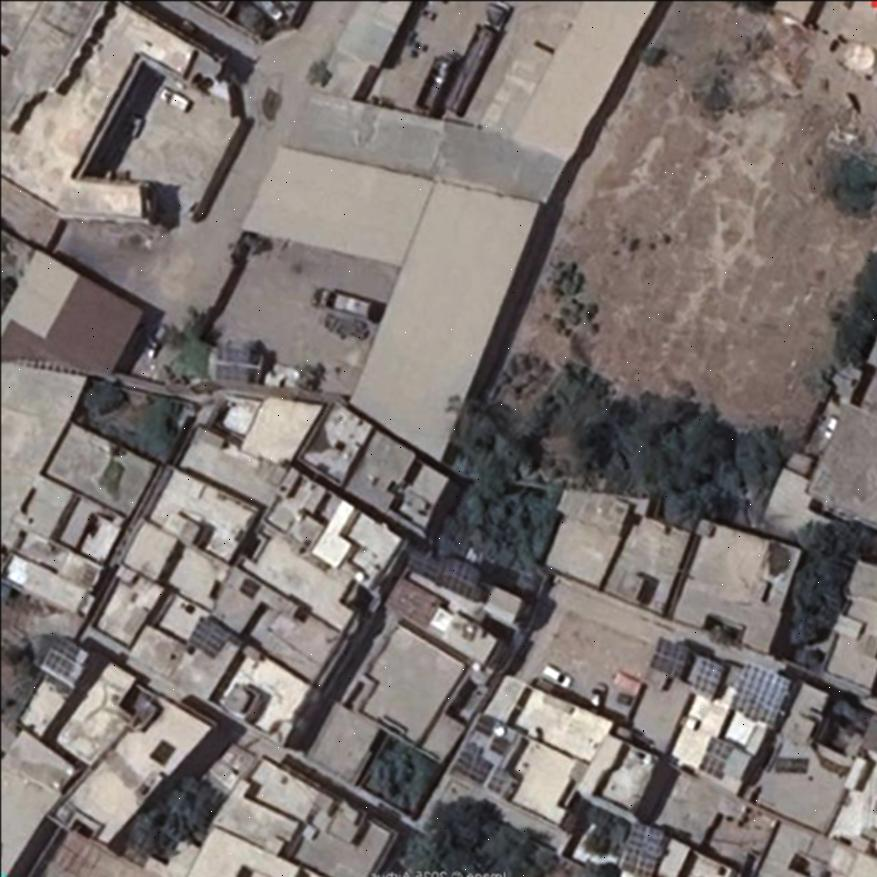Solarpanel: (735, 665, 790, 723), (621, 822, 665, 876), (185, 615, 226, 659), (439, 557, 479, 596), (700, 737, 733, 778), (651, 638, 686, 675), (689, 660, 721, 694)
